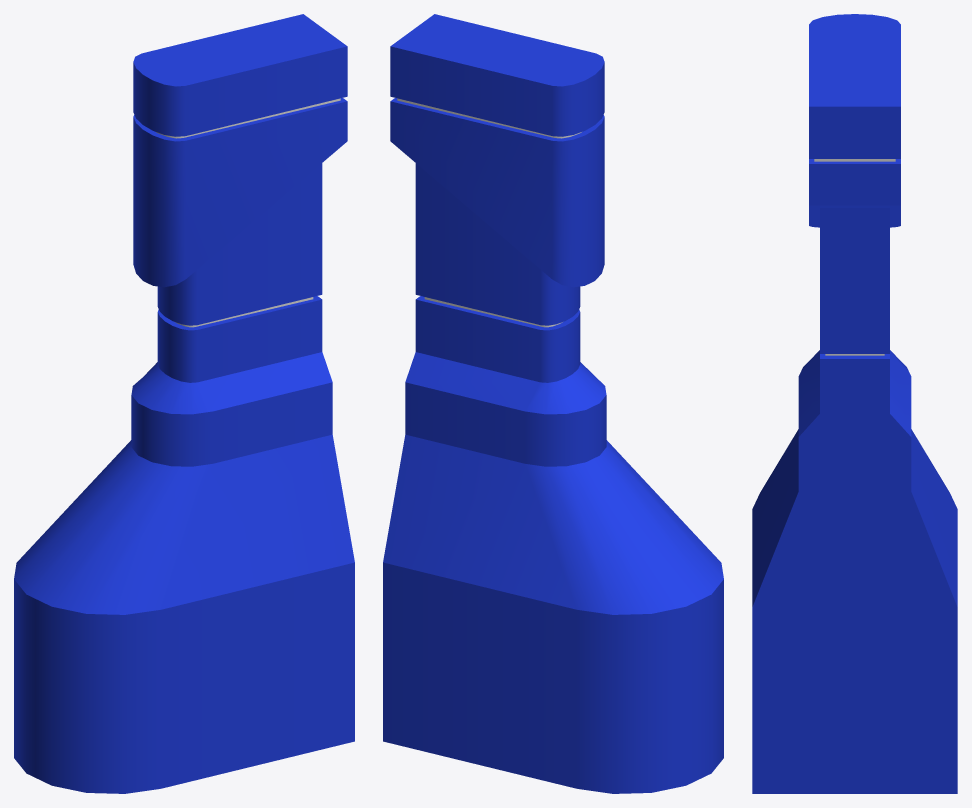
Rendered from Building_01.fbx.
The picture shows the model from 3 angles, left to right: view 1: azimuth 30°, elevation 25°; view 2: azimuth 150°, elevation 25°; view 3: azimuth 270°, elevation 25°; orthographic projection. The views are drawn at different scales.
Parts seen in each view (by area): view 1: Building_01; view 2: Building_01; view 3: Building_01.
Part boxes in pixels (x1,y1,x2,y2): Building_01: (14, 14, 354, 793); Building_01: (383, 14, 723, 793); Building_01: (752, 14, 957, 793).
Bounding box in the file's own units: 3.5 × 7.49 × 2.
